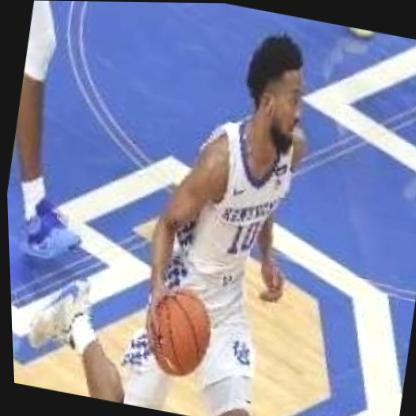basketball: (134, 279, 220, 388)
